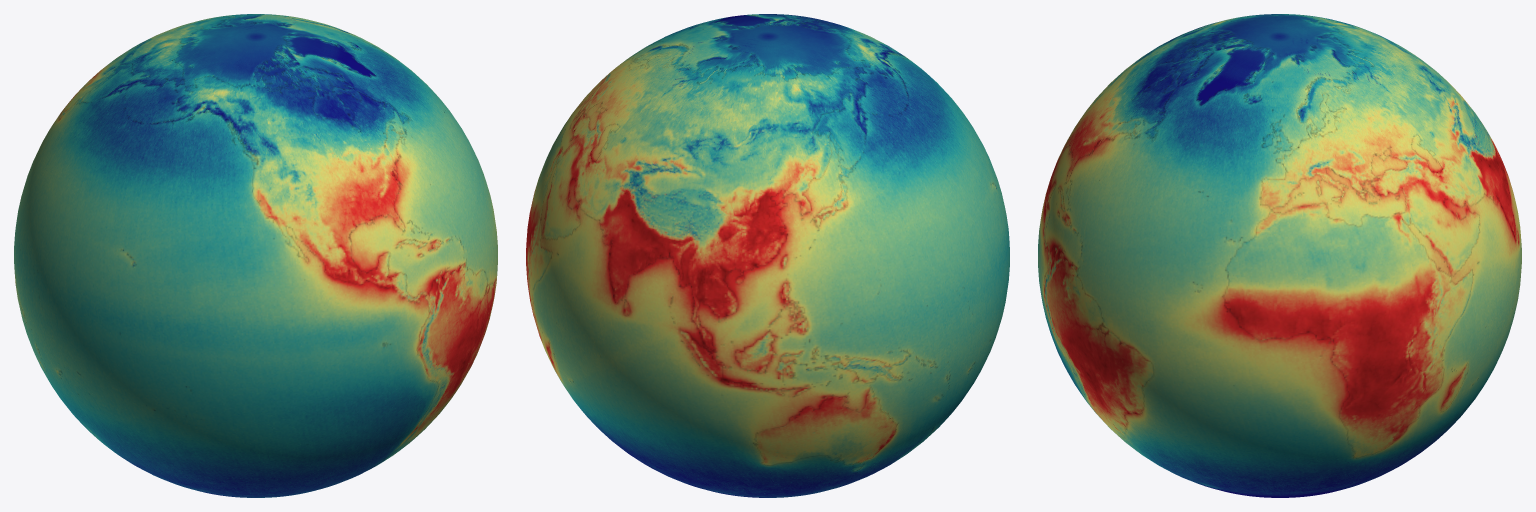
3 renders of one model, left to right at view 1: azimuth 30°, elevation 25°; view 2: azimuth 150°, elevation 25°; view 3: azimuth 270°, elevation 25°, orthographic.
Visible parts, largest first — view 1: Sphere; view 2: Sphere; view 3: Sphere.
Part boxes in pixels (x1,y1,x2,y2): Sphere: (14,14,497,497); Sphere: (526,14,1009,497); Sphere: (1038,14,1521,497).
Size of the model in its own units: 3.82 by 3.82 by 3.81.
1 material, 1 textured.
